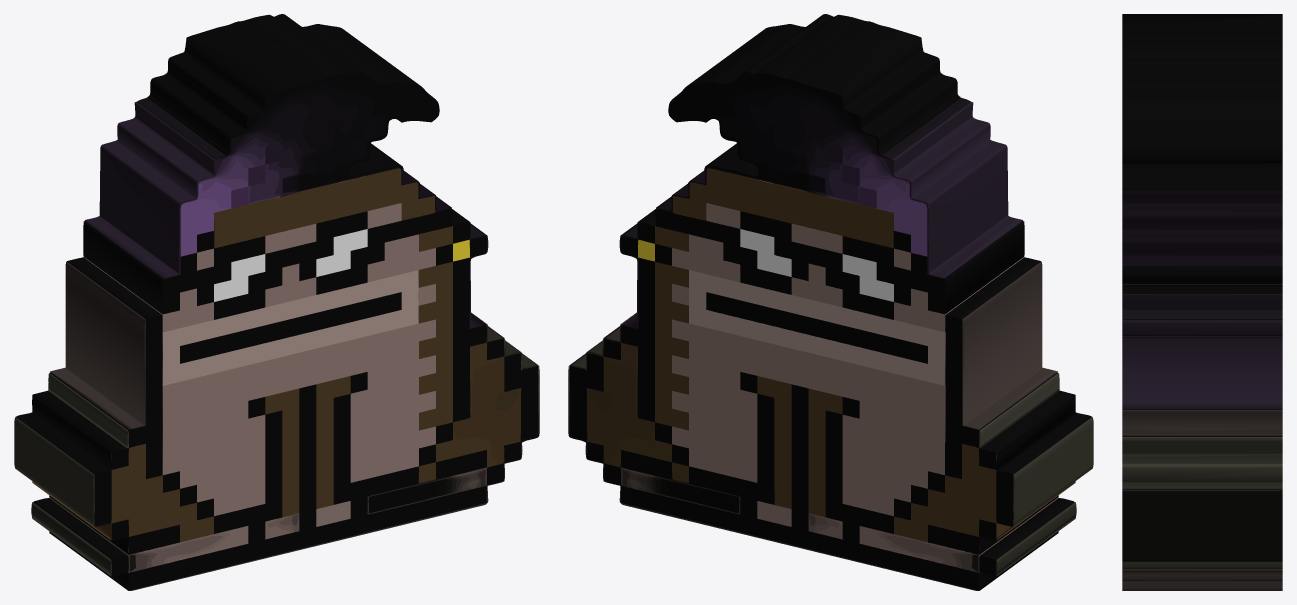
File: Toadz_895.glb
3 renders of one model, left to right at view 1: azimuth 30°, elevation 25°; view 2: azimuth 150°, elevation 25°; view 3: azimuth 270°, elevation 25°, orthographic.
Parts seen in each view (by area): view 1: Curve; view 2: Curve; view 3: Curve.
Boxes of the visible parts, x1,y1,x2,y2 form: Curve: (14,14,539,590); Curve: (568,14,1093,590); Curve: (1122,14,1282,590).
Size of the model in its own units: 3.25 by 3.25 by 1.
